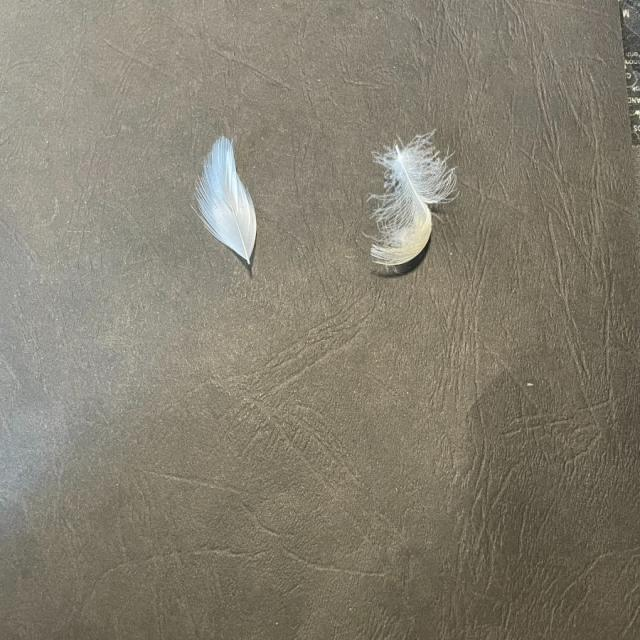feather: (363, 128, 459, 266), (189, 135, 255, 269)
